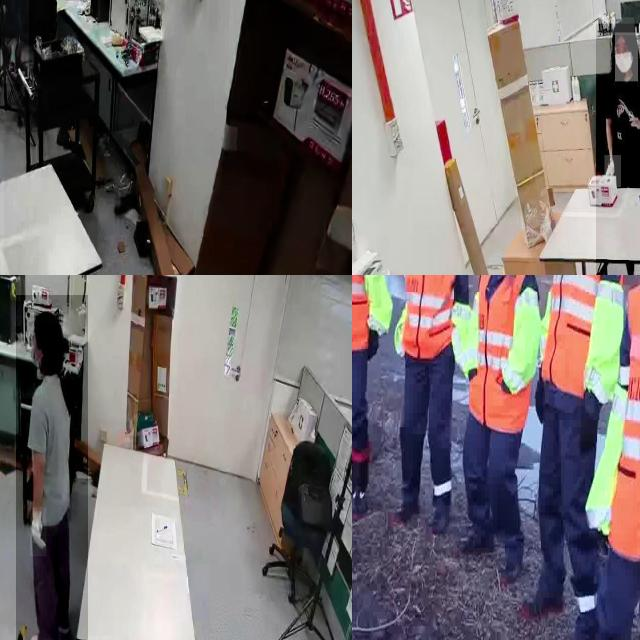boots: (522, 573, 566, 625), (462, 501, 492, 556), (352, 440, 371, 520), (429, 482, 456, 536), (498, 522, 525, 574), (399, 467, 421, 519), (561, 613, 593, 640)
face_mask: (615, 32, 639, 82)
hand_glove: (30, 508, 47, 558), (604, 155, 622, 188), (536, 370, 546, 422), (369, 331, 379, 358)
head_nohelmet: (34, 311, 62, 332), (611, 17, 635, 36)
person: (536, 275, 621, 640), (15, 295, 88, 640), (473, 275, 540, 570), (396, 275, 462, 526), (595, 23, 640, 275), (0, 0, 29, 84)
shoes: (27, 625, 60, 640)
vest: (542, 275, 623, 403), (481, 275, 534, 425), (404, 275, 459, 360)
